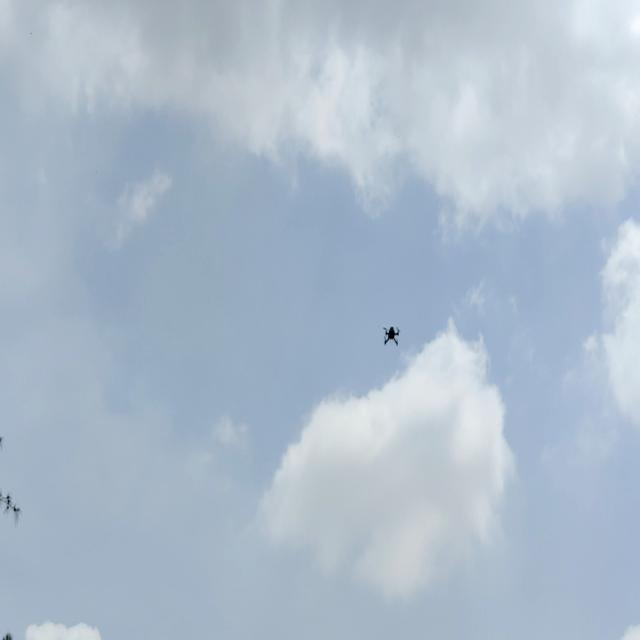drone: (380, 321, 404, 349)
